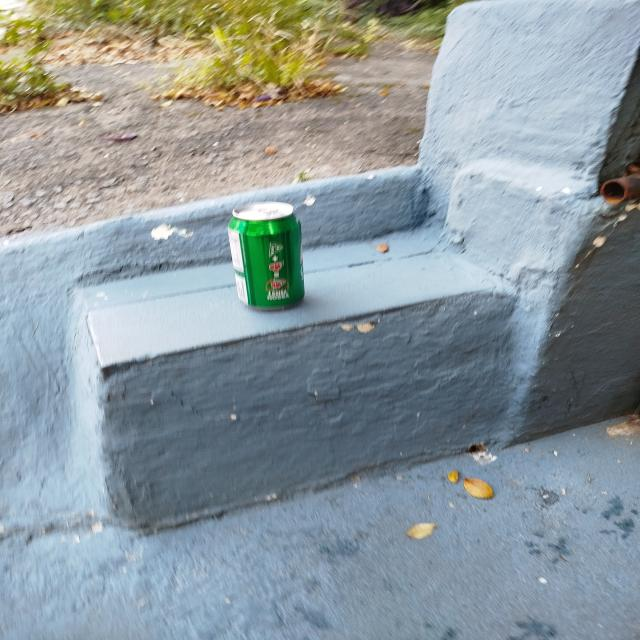Guarana: (228, 200, 304, 309)
